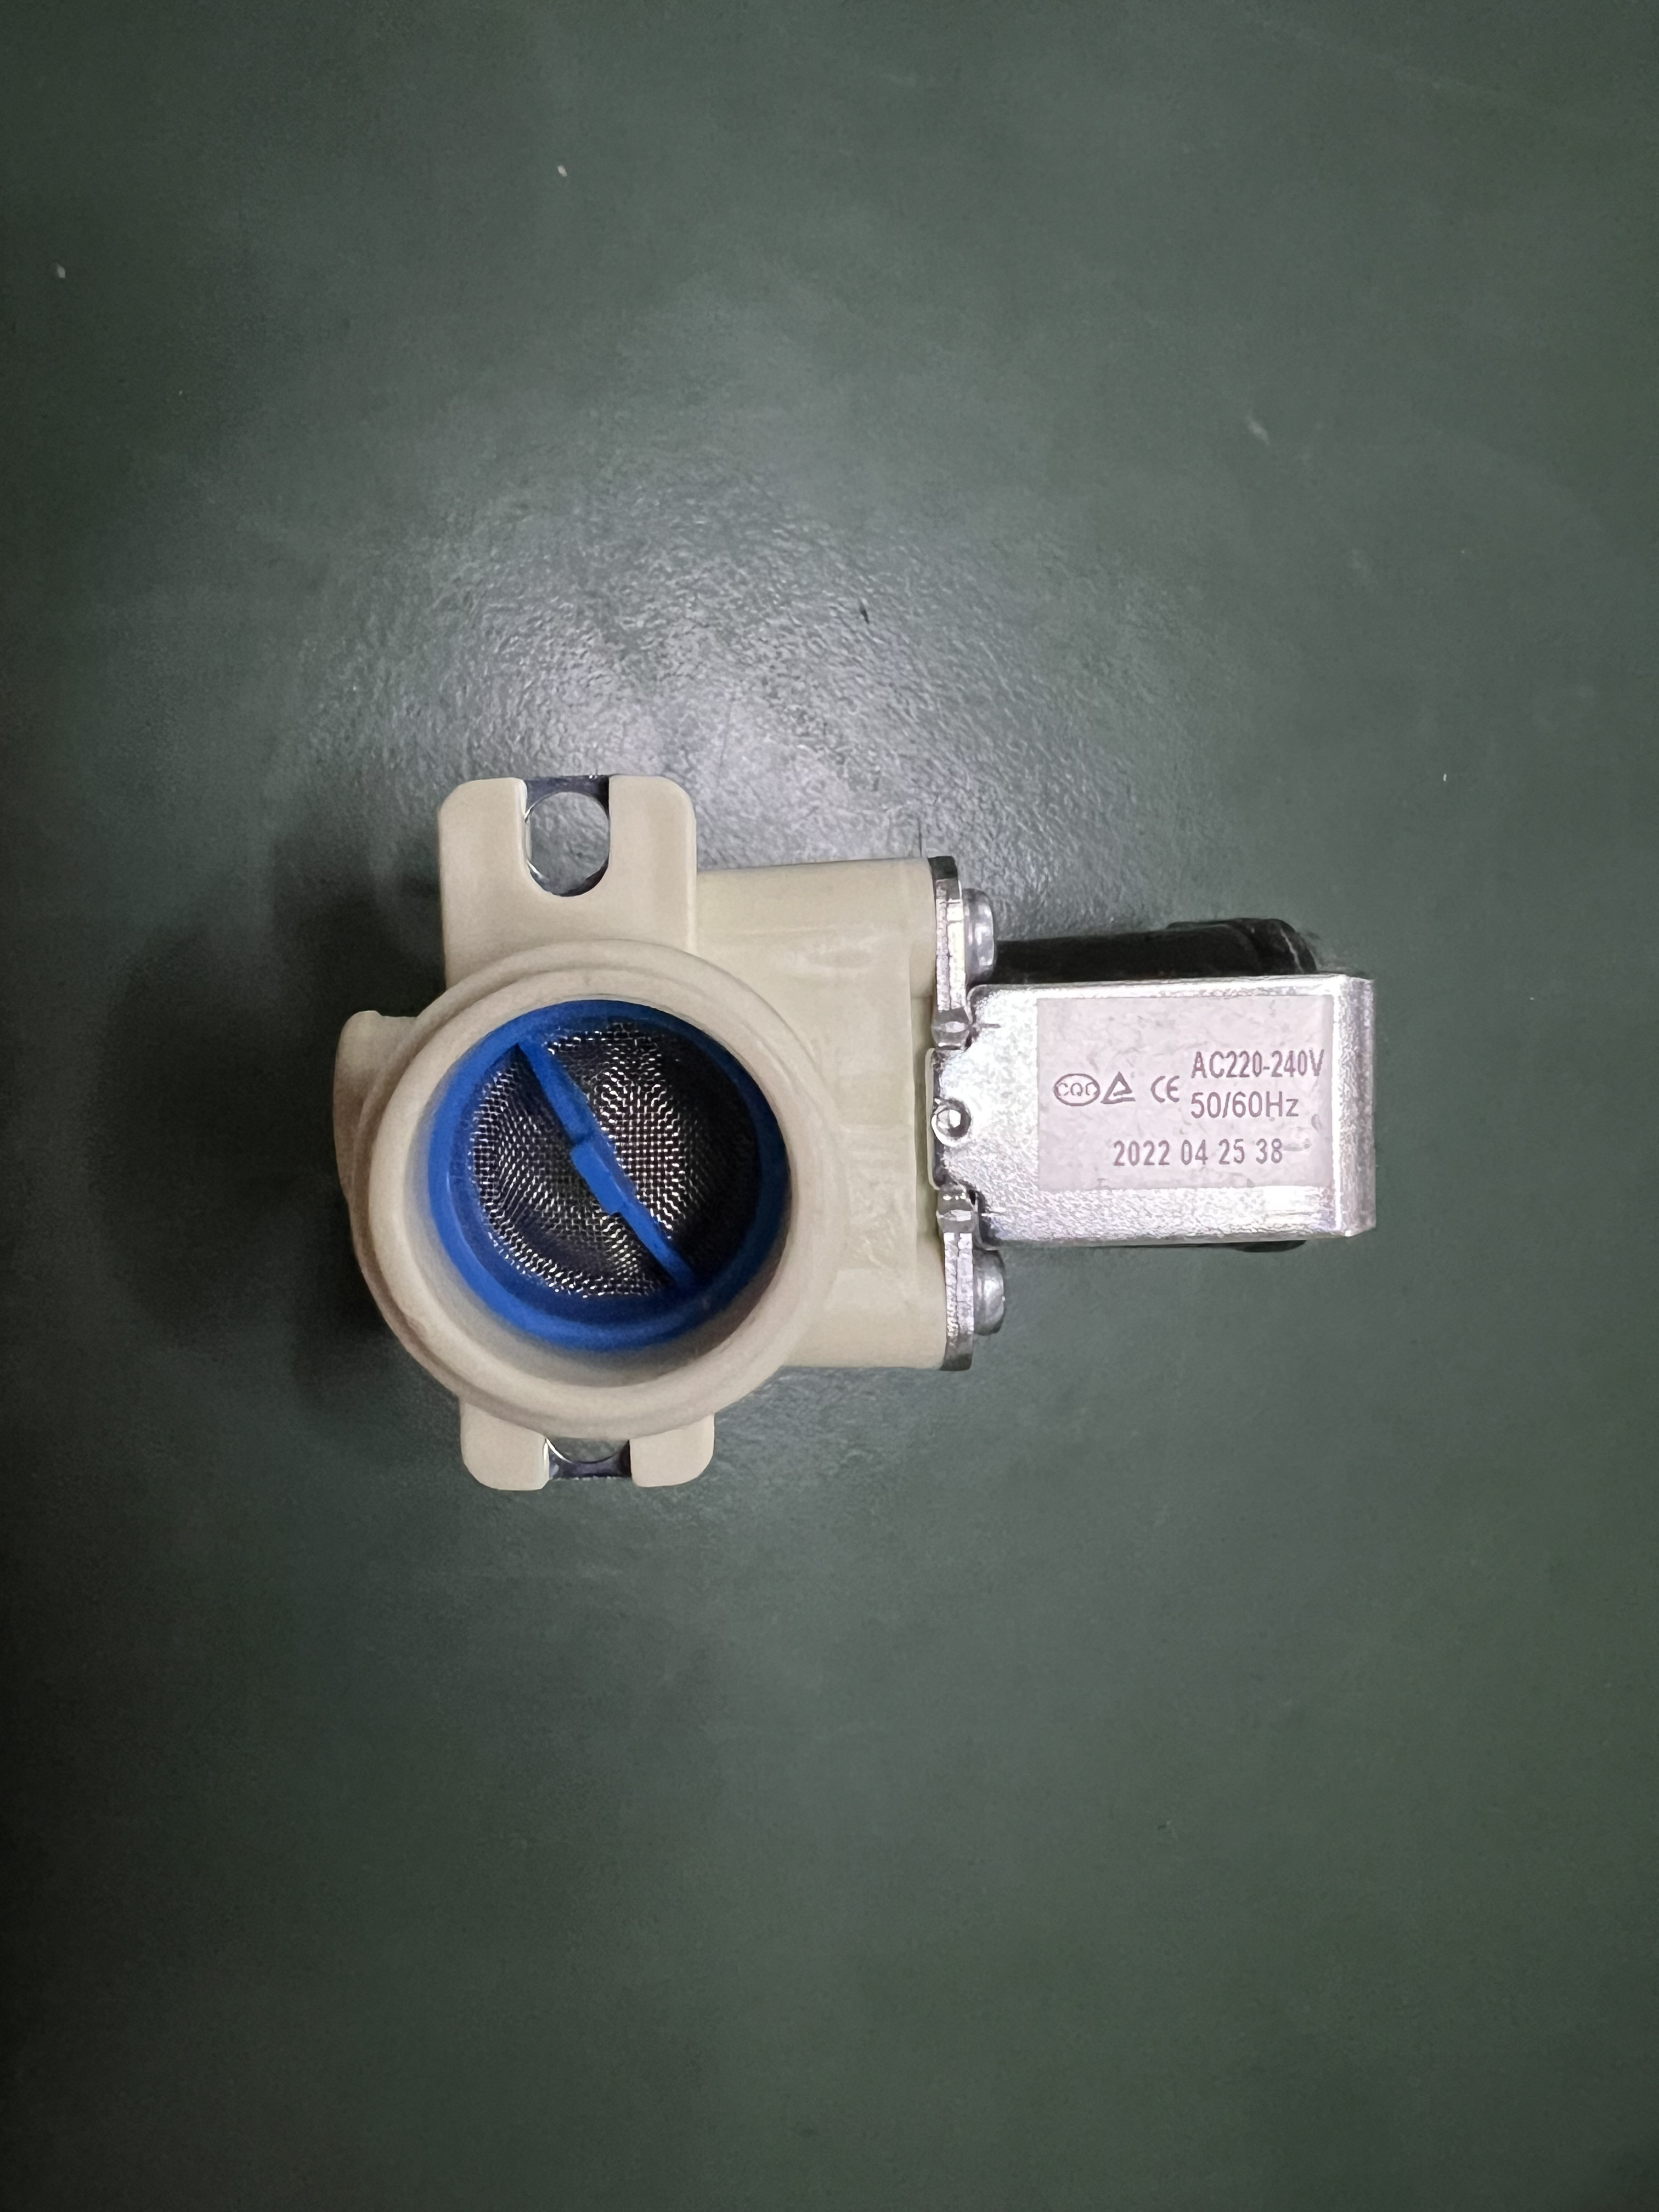godrej_inlet_valves: (303, 786, 1427, 1521)
